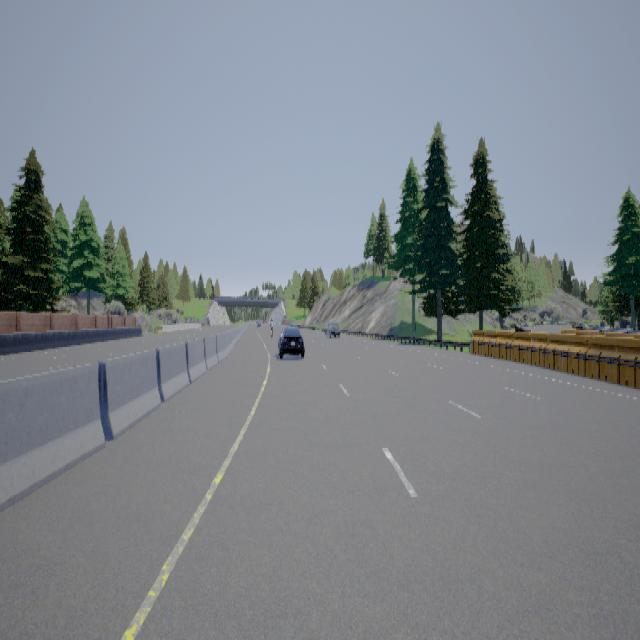bike: (266, 315, 274, 335)
vehicle: (277, 325, 304, 357), (324, 318, 342, 337)
